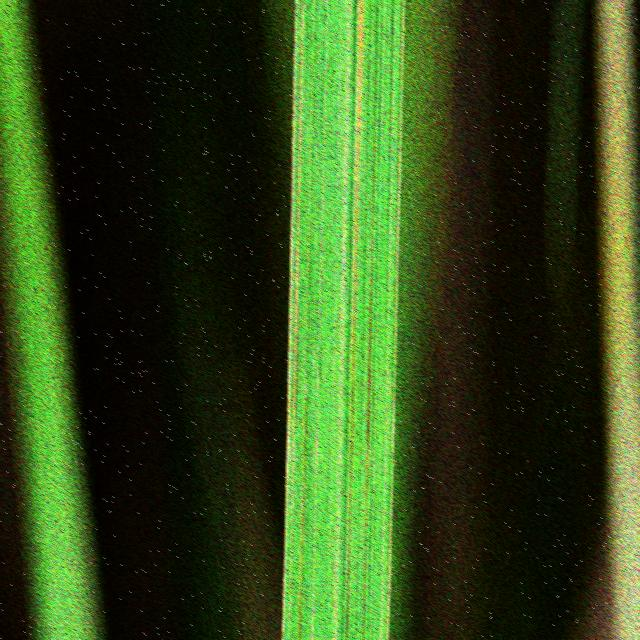BLS: (346, 0, 363, 640), (293, 0, 304, 429), (298, 245, 309, 640), (362, 256, 373, 640), (387, 301, 396, 640), (391, 0, 394, 88), (354, 0, 356, 128)
